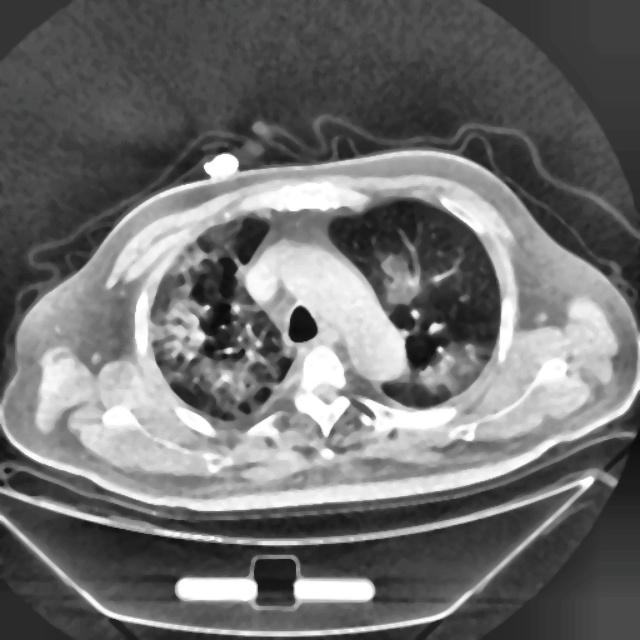covid: (2, 144, 637, 515)
